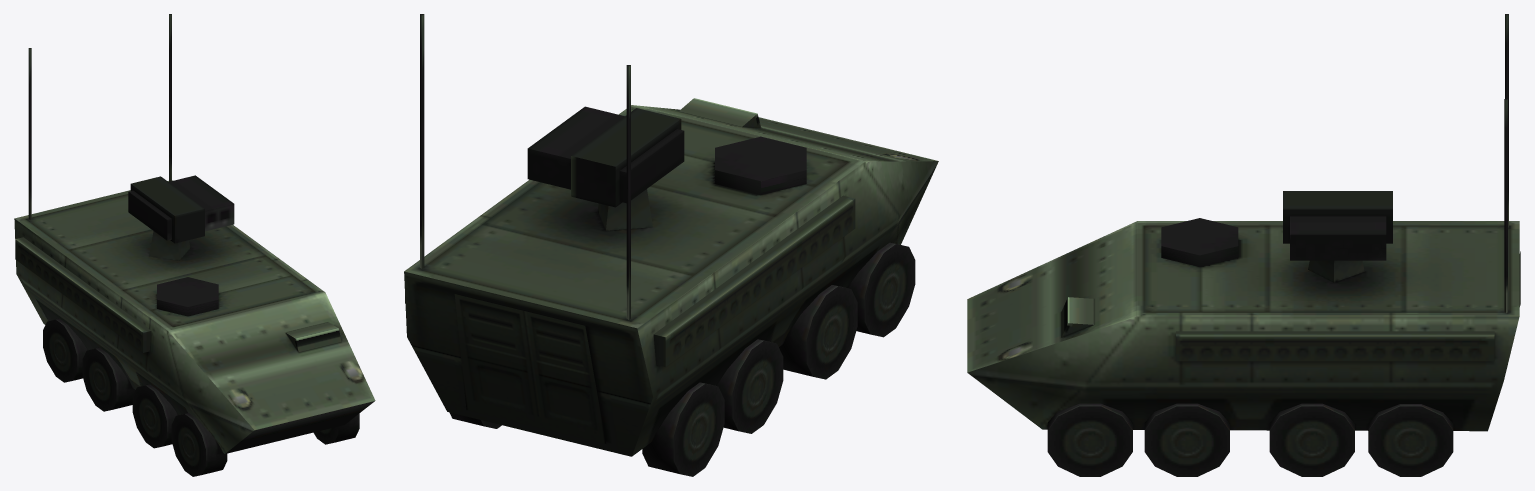
The model's file is Stryker_ATGM.DAE.
The picture shows the model from 3 angles, left to right: view 1: azimuth 30°, elevation 25°; view 2: azimuth 150°, elevation 25°; view 3: azimuth 270°, elevation 25°; orthographic projection. The views are drawn at different scales.
Parts seen in each view (by area): view 1: _1169_Stryker_ATGM; view 2: _1169_Stryker_ATGM; view 3: _1169_Stryker_ATGM.
Boxes of the visible parts, x1=… form: _1169_Stryker_ATGM: x1=14, y1=14, x2=375, y2=476; _1169_Stryker_ATGM: x1=404, y1=14, x2=938, y2=476; _1169_Stryker_ATGM: x1=967, y1=14, x2=1520, y2=476.
Bounding box in the file's own units: 112 × 184 × 246.
Materials: 1 (1 with a texture image).
